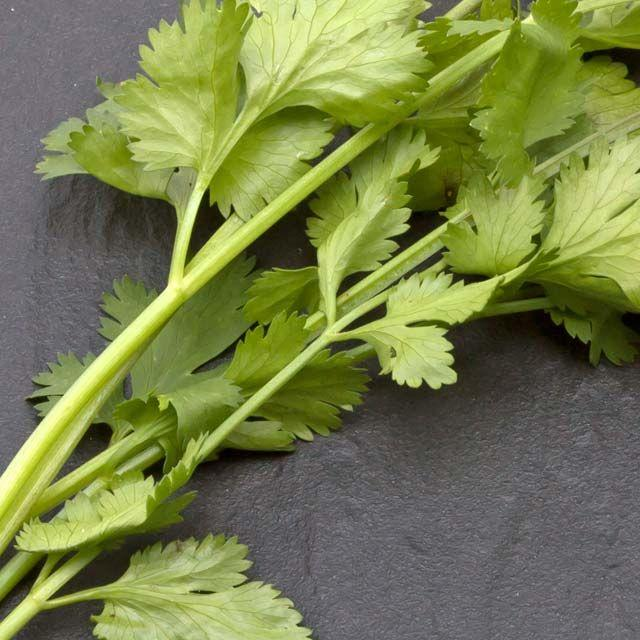cilantro: (0, 0, 640, 640)
